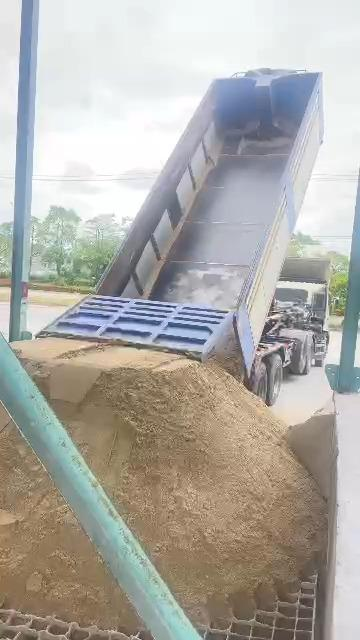sand: (17, 324, 324, 623), (0, 417, 137, 629), (289, 403, 337, 500)
